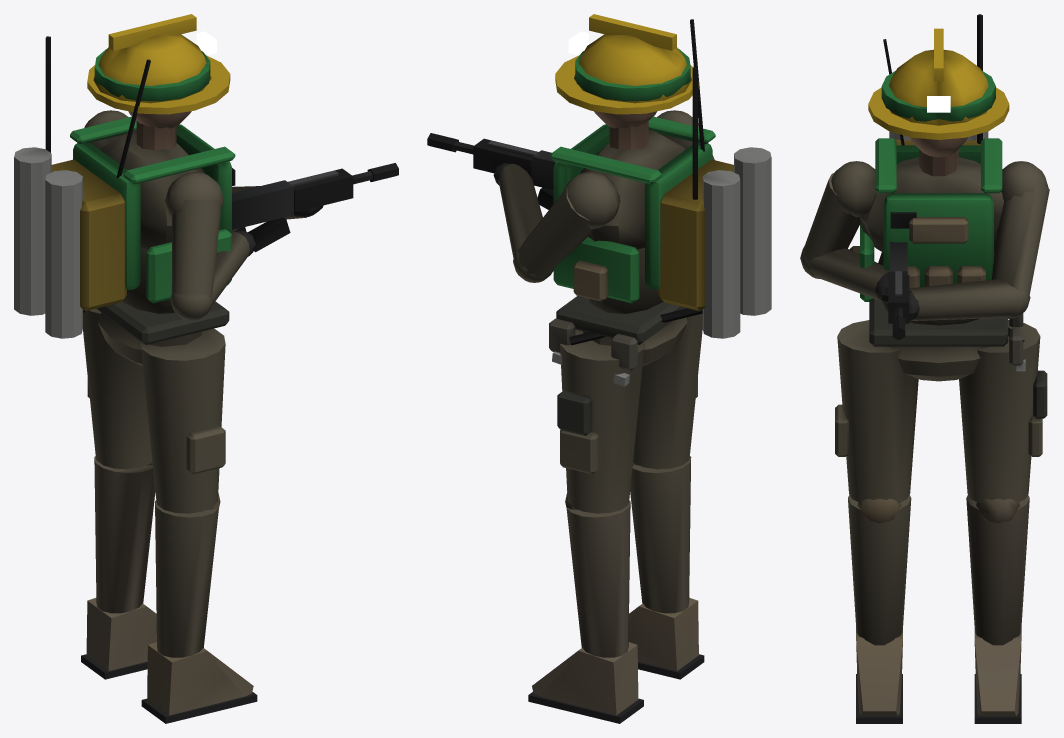
File: u_engineer.glb
3 renders of one model, left to right at view 1: azimuth 30°, elevation 25°; view 2: azimuth 150°, elevation 25°; view 3: azimuth 270°, elevation 25°, orthographic. The views are drawn at different scales.
Parts seen in each view (by area): view 1: Engineer_Walls, Engineer_Details, Engineer_shL, Engineer_shR, Engineer_thL, Engineer_thR; view 2: Engineer_Walls, Engineer_Details, Engineer_shR, Engineer_shL, Engineer_thR, Engineer_thL; view 3: Engineer_Walls, Engineer_shR, Engineer_shL, Engineer_Details, Engineer_thL, Engineer_thR.
Part boxes in pixels (box(x1,y1,x2,y2)): Engineer_Walls: box(51, 34, 398, 366); Engineer_Details: box(14, 14, 238, 474); Engineer_shL: box(141, 493, 257, 723); Engineer_shR: box(81, 456, 156, 679); Engineer_thL: box(140, 328, 225, 513); Engineer_thR: box(83, 308, 152, 469); Engineer_Walls: box(427, 34, 733, 366); Engineer_Details: box(549, 14, 771, 474); Engineer_shR: box(528, 492, 643, 723); Engineer_shL: box(628, 456, 704, 679); Engineer_thR: box(560, 329, 644, 513); Engineer_thL: box(633, 313, 702, 469); Engineer_Walls: box(800, 49, 1049, 381); Engineer_shR: box(966, 495, 1029, 723); Engineer_shL: box(848, 495, 911, 723); Engineer_Details: box(835, 14, 1047, 456); Engineer_thL: box(837, 320, 918, 503); Engineer_thR: box(959, 320, 1040, 503).
Size of the model in its own units: 0.3292 by 0.606 by 0.2125.
